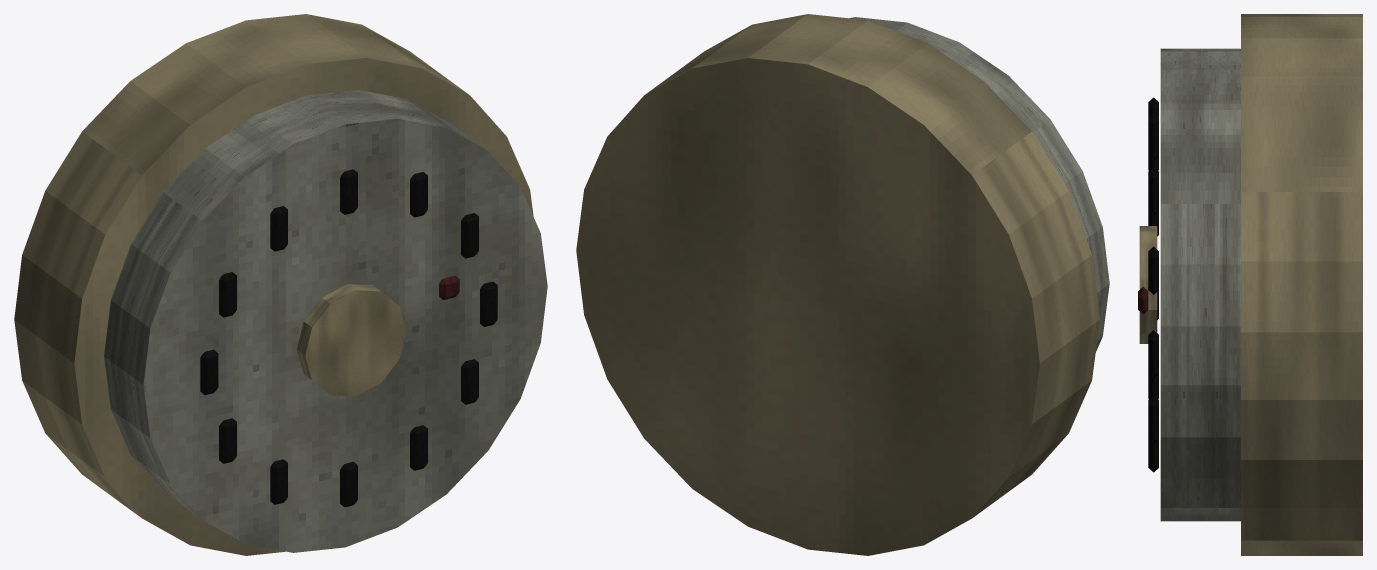
File: level_event_smoke_alarm_worn.glb
The picture shows the model from 3 angles, left to right: view 1: azimuth 30°, elevation 25°; view 2: azimuth 150°, elevation 25°; view 3: azimuth 270°, elevation 25°; orthographic projection.
Parts seen in each view (by area): view 1: level_event_smoke_alarm_worn; view 2: level_event_smoke_alarm_worn; view 3: level_event_smoke_alarm_worn.
Boxes of the visible parts, box(x1,y1,x2,y2) form: level_event_smoke_alarm_worn: box(14, 14, 547, 555); level_event_smoke_alarm_worn: box(576, 14, 1109, 555); level_event_smoke_alarm_worn: box(1138, 14, 1362, 555).
Bounding box in the file's own units: 0.156 × 0.156 × 0.0645.
Materials: 4 (4 with a texture image).
